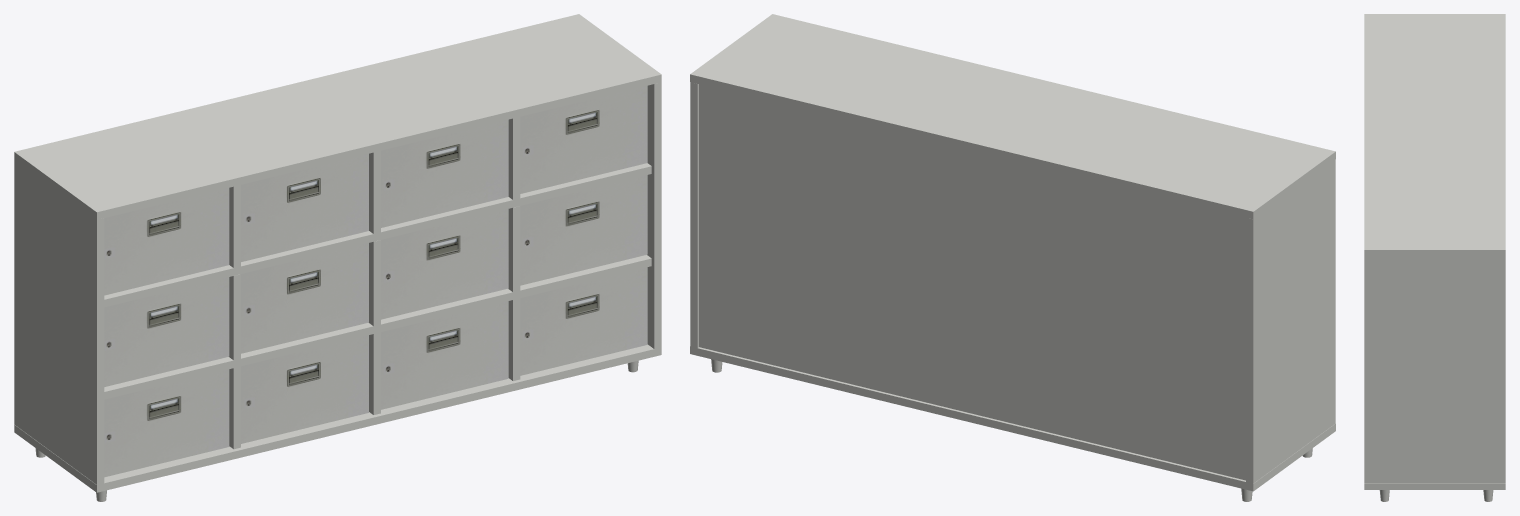
The model's file is File Cabinet.FBX.
The picture shows the model from 3 angles, left to right: view 1: azimuth 30°, elevation 25°; view 2: azimuth 150°, elevation 25°; view 3: azimuth 270°, elevation 25°; orthographic projection. The views are drawn at different scales.
Visible parts, largest first — view 1: File Cabinet; view 2: File Cabinet; view 3: File Cabinet.
Part boxes in pixels (bbox=[...]): File Cabinet: bbox=[14, 14, 661, 501]; File Cabinet: bbox=[690, 14, 1335, 501]; File Cabinet: bbox=[1364, 14, 1505, 501].
Size of the model in its own units: 1927 by 488 by 979.
1 material, 1 textured.
